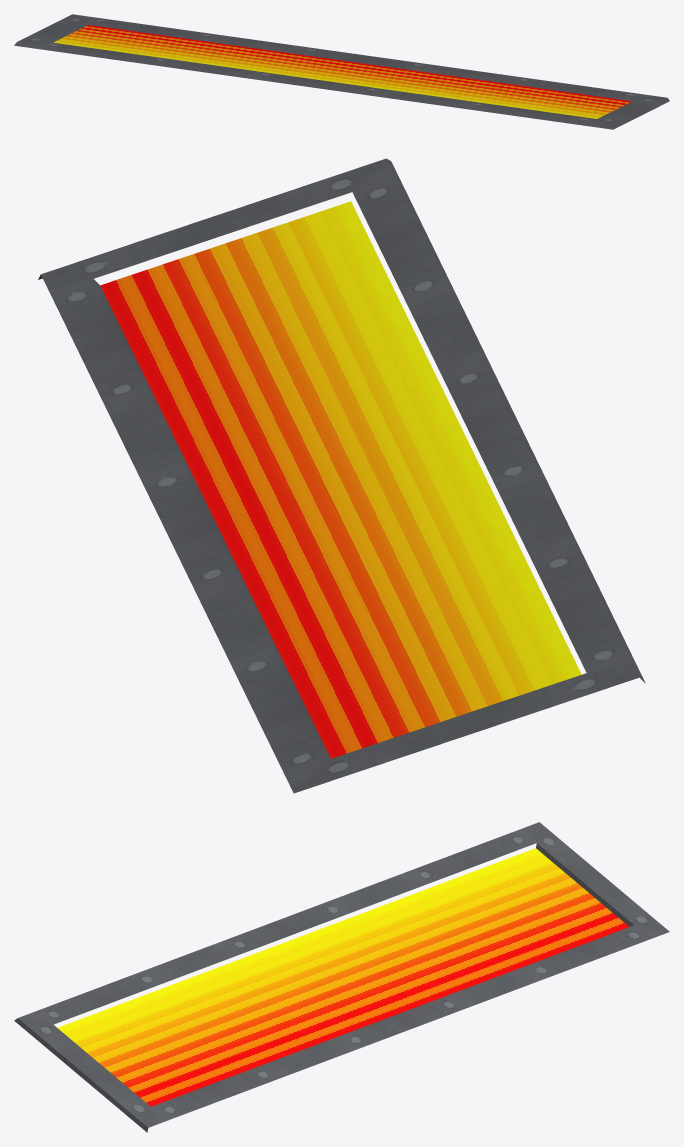
3 renders of one model, top to bottom at view 1: azimuth 30°, elevation 25°; view 2: azimuth 150°, elevation 25°; view 3: azimuth 270°, elevation 25°, orthographic. The views are drawn at different scales.
Parts seen in each view (by area): view 1: TREMPLIN_SURFACE, TREMPLIN; view 2: TREMPLIN_SURFACE, TREMPLIN; view 3: TREMPLIN_SURFACE, TREMPLIN.
Part boxes in pixels (bbox=[...]): TREMPLIN_SURFACE: bbox=[53, 25, 631, 118]; TREMPLIN: bbox=[14, 14, 669, 129]; TREMPLIN_SURFACE: bbox=[100, 201, 581, 758]; TREMPLIN: bbox=[38, 158, 645, 793]; TREMPLIN_SURFACE: bbox=[58, 848, 628, 1106]; TREMPLIN: bbox=[14, 822, 669, 1132].
Size of the model in its own units: 108 by 10.04 by 115.
Materials: 2 (2 with a texture image).
